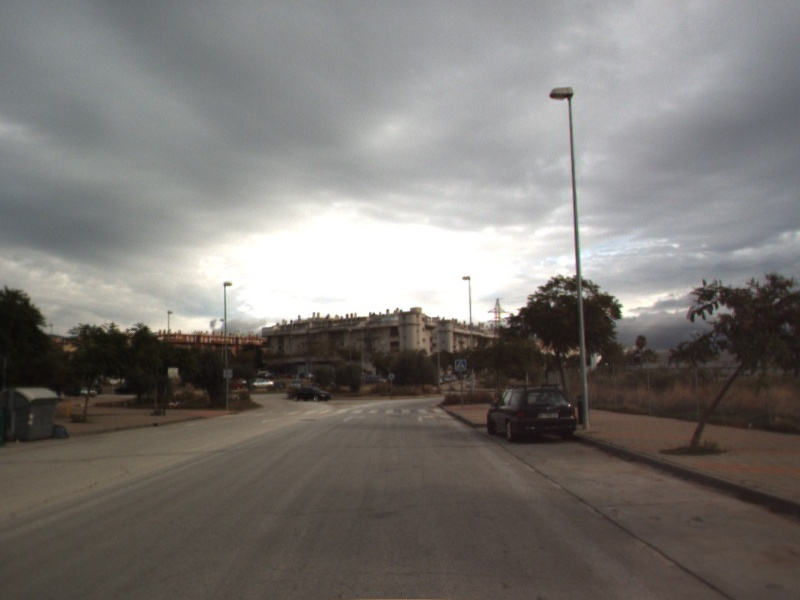RIGHT: (341, 413, 368, 423), (415, 413, 437, 424)
